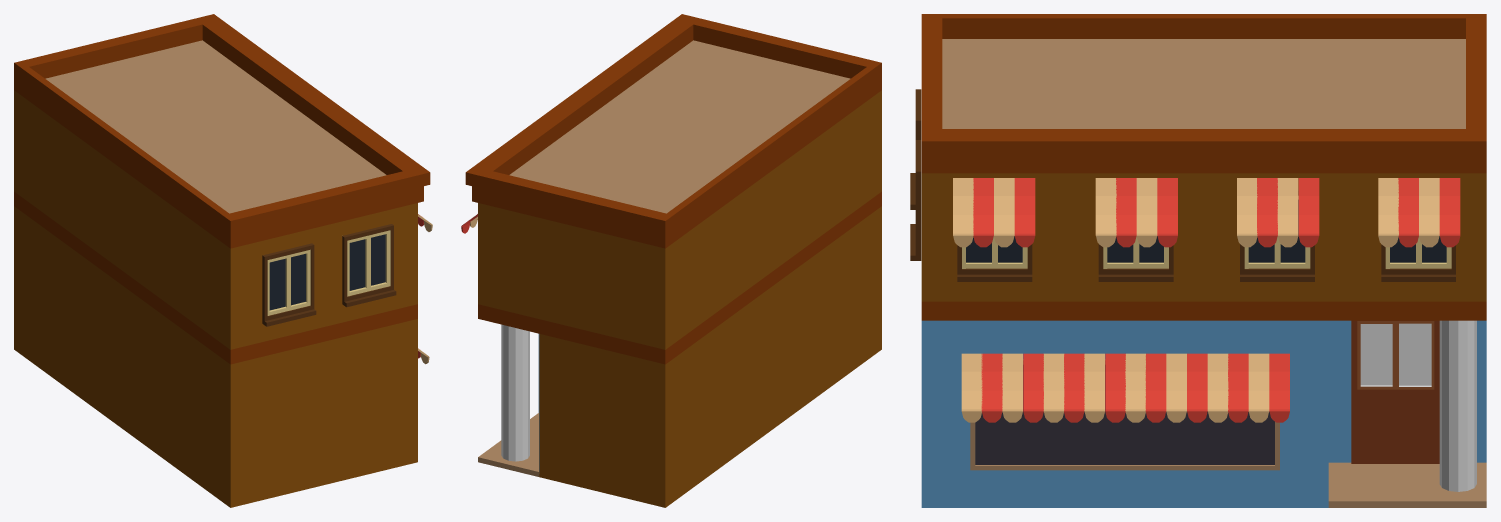
File: House.fbx
3 views of the same model, side by side, from view 1: azimuth 30°, elevation 25°; view 2: azimuth 150°, elevation 25°; view 3: azimuth 270°, elevation 25° (orthographic). The views are drawn at different scales.
Parts seen in each view (by area): view 1: House Body, Window.005, Window.004; view 2: House Body, Cylinder; view 3: House Body, Cube, Cylinder, Window.002, Window.001, Window, Window.003, Window Cover.014, Window Cover.022, Window Cover.027, Window Cover.031, Window Cover.019 (+28 smaller).
Boxes of the visible parts, x1,y1,x2,y2 form: House Body: (14,14,430,507); Window.005: (262,243,316,326); Window.004: (342,224,396,307); House Body: (465,14,881,507); Cylinder: (501,324,529,461); House Body: (921,14,1486,507); Cube: (1351,320,1439,463); Cylinder: (1439,320,1476,491); Window.002: (1240,188,1314,281); Window.001: (1098,236,1173,281); Window: (957,236,1032,281); Window.003: (1381,236,1455,281); Window Cover.014: (1248,353,1269,422); Window Cover.022: (1136,178,1157,247); Window Cover.027: (1298,178,1319,247); Window Cover.031: (1439,178,1460,247); Window Cover.019: (1014,178,1035,247).
Size of the model in its own units: 1144 by 1463 by 2040.
